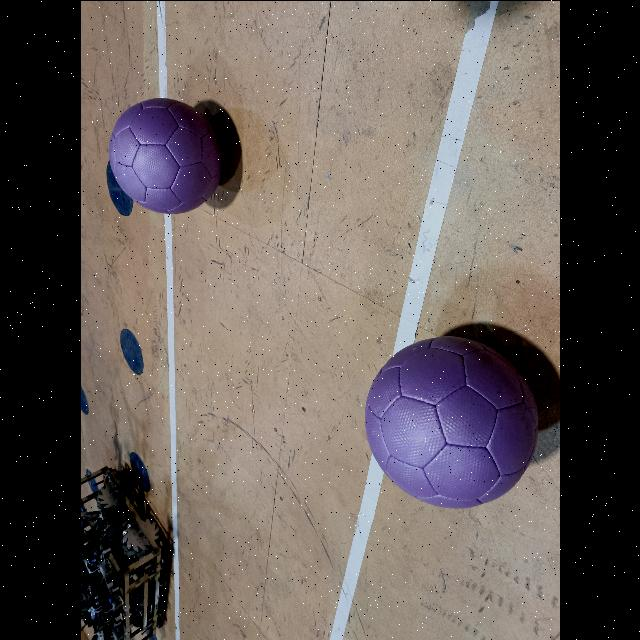P: (364, 335, 538, 507), (108, 98, 222, 212)
